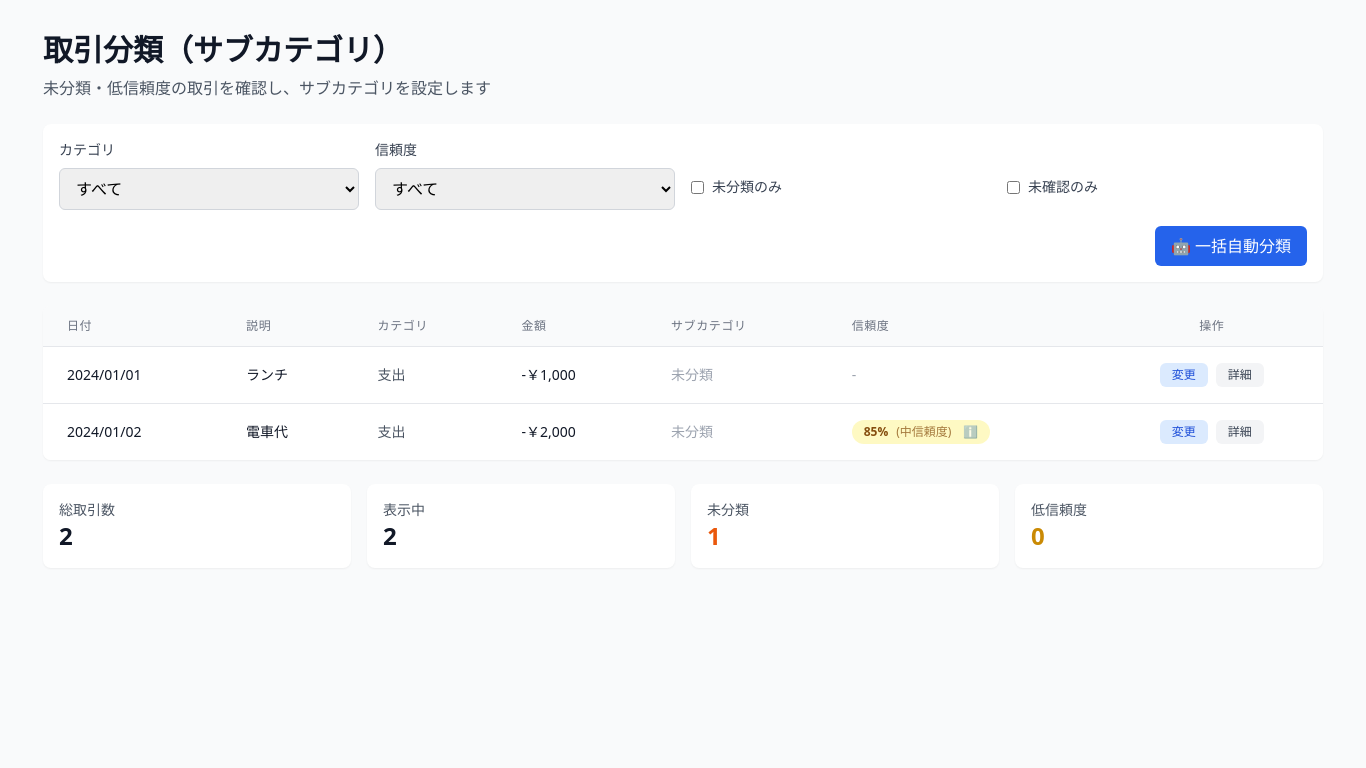
TransactionClassificationPage › サブカテゴリ変更 › 変更ボタンをクリックするとSubcategorySelectorが表示される
This screenshot has width=1366, height=768.
Expected: the text "ランチ" is shown, [222,346,354,404]
Step 1. Click the button "変更" in the row of "2024/01/01" → (1184, 375), box [1160,363,1208,387]
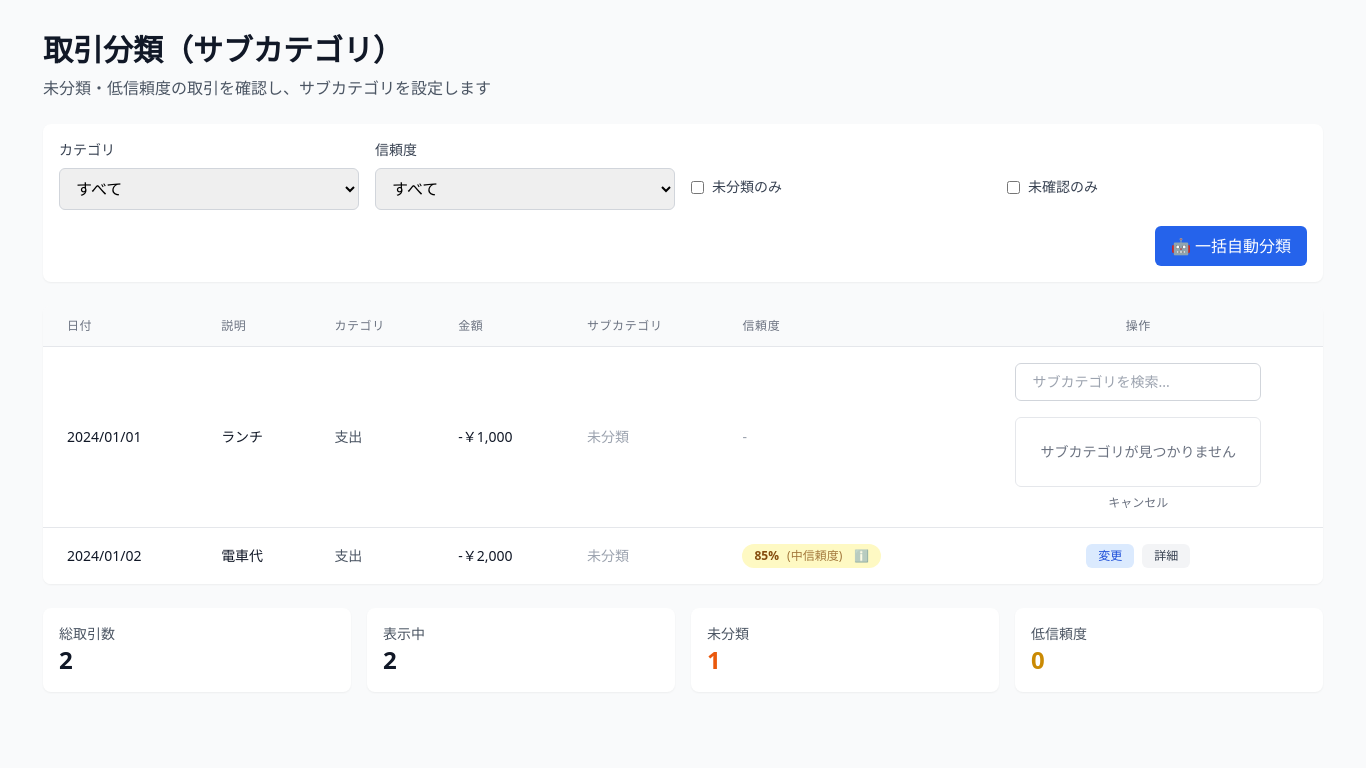
Result: the field with placeholder "サブカテゴリを検索..." is shown at [1016,363,1261,401]
